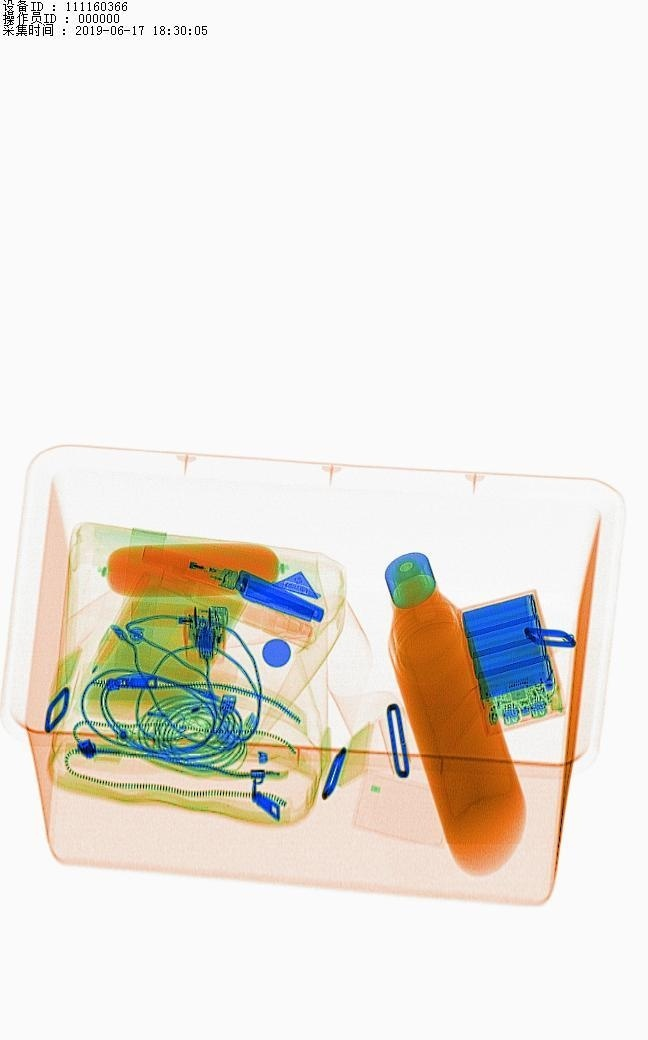NonmetallicFire: (137, 525, 278, 617), (99, 583, 241, 641)
